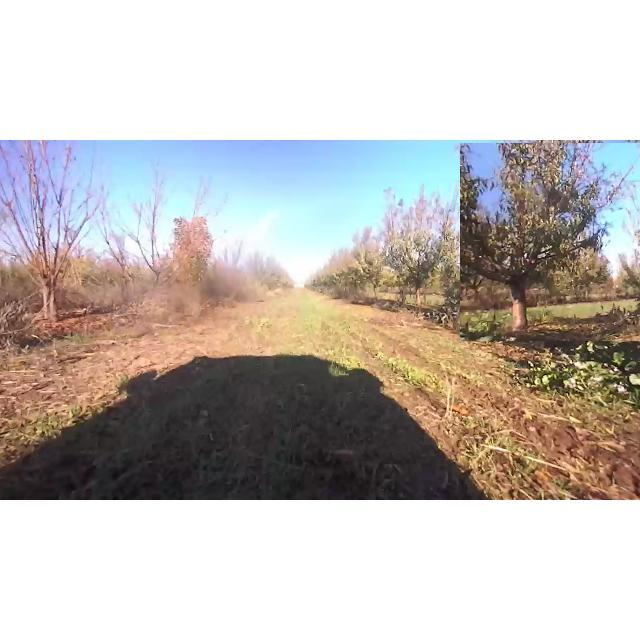direk: (460, 143, 640, 341), (0, 142, 110, 322), (94, 172, 218, 298), (376, 180, 464, 312), (174, 205, 222, 288), (358, 232, 392, 296)
